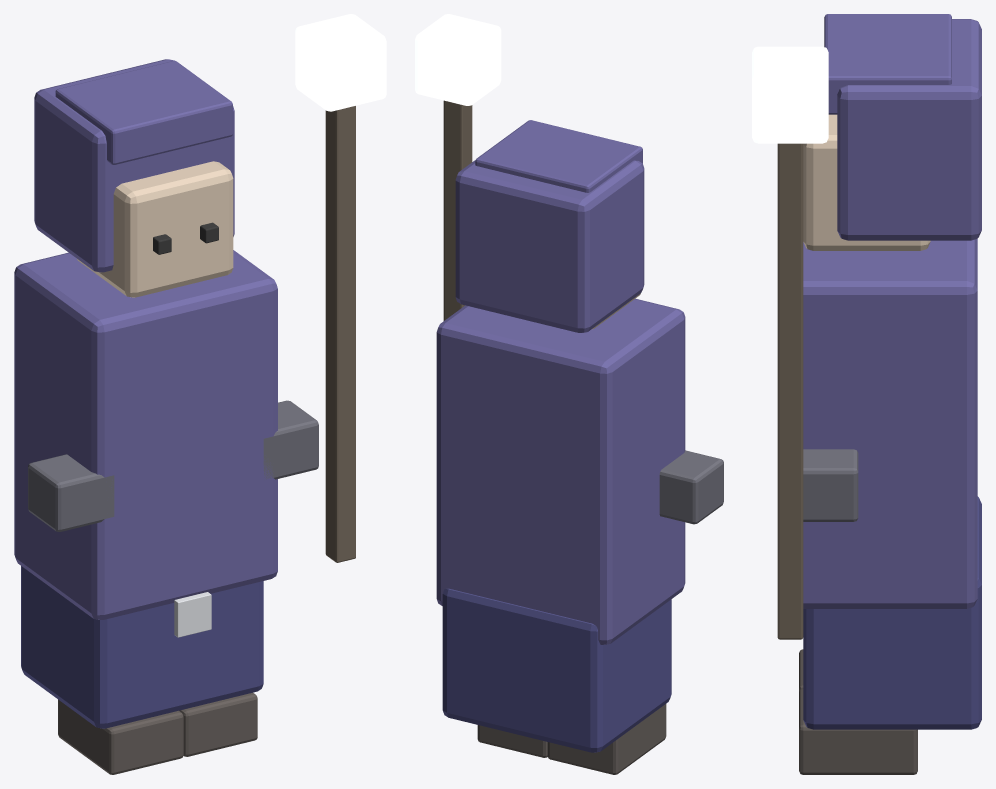
File: druid_dark.glb
3 views of the same model, side by side, from view 1: azimuth 30°, elevation 25°; view 2: azimuth 150°, elevation 25°; view 3: azimuth 270°, elevation 25° (orthographic). The views are drawn at different scales.
Visible parts, largest first — view 1: Body_robe, Body_robe_lower, Head_hood_back, Arm_R_staff, Head_skull, Head_hood_top, Arm_R_moonstone, Leg_L_boot, Arm_L_wrap, Leg_R_boot, Arm_R_wrap, Body_crescent; view 2: Body_robe, Body_robe_lower, Head_hood_back, Head_hood_top, Arm_R_moonstone, Arm_R_staff, Arm_L_wrap, Leg_L_boot, Leg_R_boot; view 3: Body_robe, Head_hood_back, Body_robe_lower, Arm_R_staff, Head_hood_top, Arm_R_moonstone, Leg_R_boot, Head_skull, Arm_R_wrap.
Part boxes in pixels (bbox=[...]): Body_robe: bbox=[14, 250, 277, 619]; Body_robe_lower: bbox=[21, 566, 263, 728]; Head_hood_back: bbox=[34, 59, 234, 272]; Arm_R_staff: bbox=[325, 106, 355, 562]; Head_skull: bbox=[77, 161, 233, 297]; Head_hood_top: bbox=[55, 61, 232, 164]; Arm_R_moonstone: bbox=[295, 14, 386, 111]; Leg_L_boot: bbox=[58, 699, 183, 774]; Arm_L_wrap: bbox=[28, 454, 114, 531]; Leg_R_boot: bbox=[179, 692, 257, 756]; Arm_R_wrap: bbox=[263, 400, 318, 479]; Body_crescent: bbox=[174, 592, 211, 637]; Body_robe: bbox=[436, 298, 685, 644]; Body_robe_lower: bbox=[442, 588, 671, 752]; Head_hood_back: bbox=[455, 160, 644, 332]; Head_hood_top: bbox=[475, 120, 642, 192]; Arm_R_moonstone: bbox=[415, 14, 501, 105]; Arm_R_staff: bbox=[443, 100, 472, 320]; Arm_L_wrap: bbox=[659, 450, 723, 524]; Leg_L_boot: bbox=[547, 704, 666, 774]; Leg_R_boot: bbox=[477, 725, 547, 757]; Body_robe: bbox=[803, 238, 977, 608]; Head_hood_back: bbox=[837, 19, 981, 240]; Body_robe_lower: bbox=[803, 496, 981, 729]; Arm_R_staff: bbox=[777, 143, 803, 639]; Head_hood_top: bbox=[824, 14, 951, 114]; Arm_R_moonstone: bbox=[752, 46, 828, 143]; Leg_R_boot: bbox=[799, 689, 917, 774]; Head_skull: bbox=[803, 114, 930, 250]; Arm_R_wrap: bbox=[803, 449, 858, 521].
Bounding box in the file's own units: 0.93 × 1.97 × 0.54.
